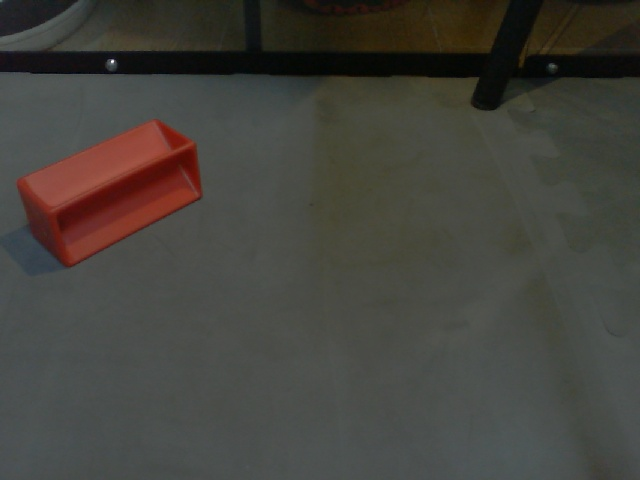RedSample: (16, 117, 202, 271)
